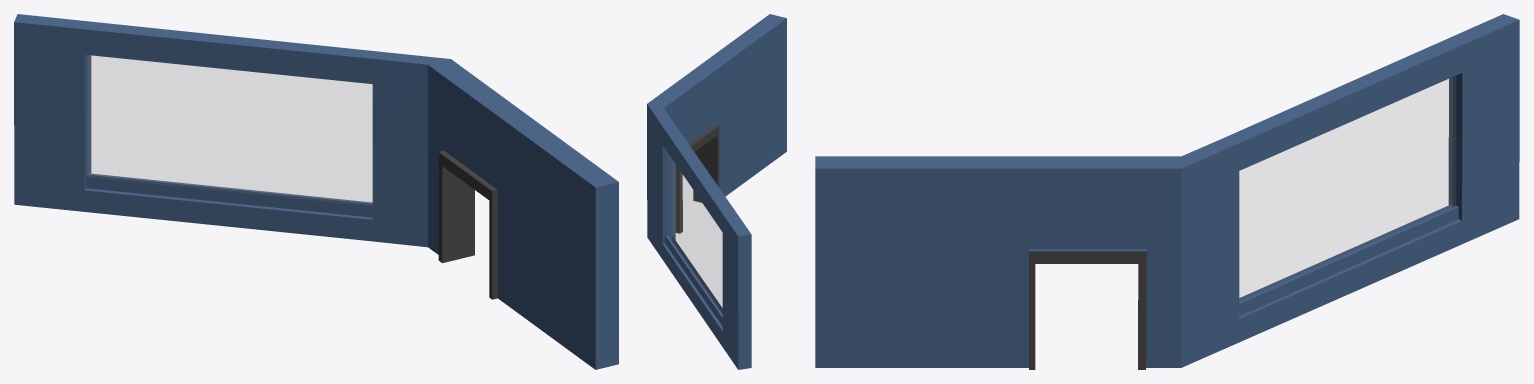
The model's file is Structure_VIPRoom.fbx.
3 views of the same model, side by side, from view 1: azimuth 30°, elevation 25°; view 2: azimuth 150°, elevation 25°; view 3: azimuth 270°, elevation 25° (orthographic). The views are drawn at different scales.
Visible parts, largest first — view 1: VIPRoom3; view 2: VIPRoom3; view 3: VIPRoom3.
Part boxes in pixels (left/top/right/bottom): VIPRoom3: left=14, top=14, right=618, bottom=369; VIPRoom3: left=647, top=14, right=786, bottom=369; VIPRoom3: left=815, top=14, right=1519, bottom=369.
Size of the model in its own units: 1263 by 750 by 2401.
